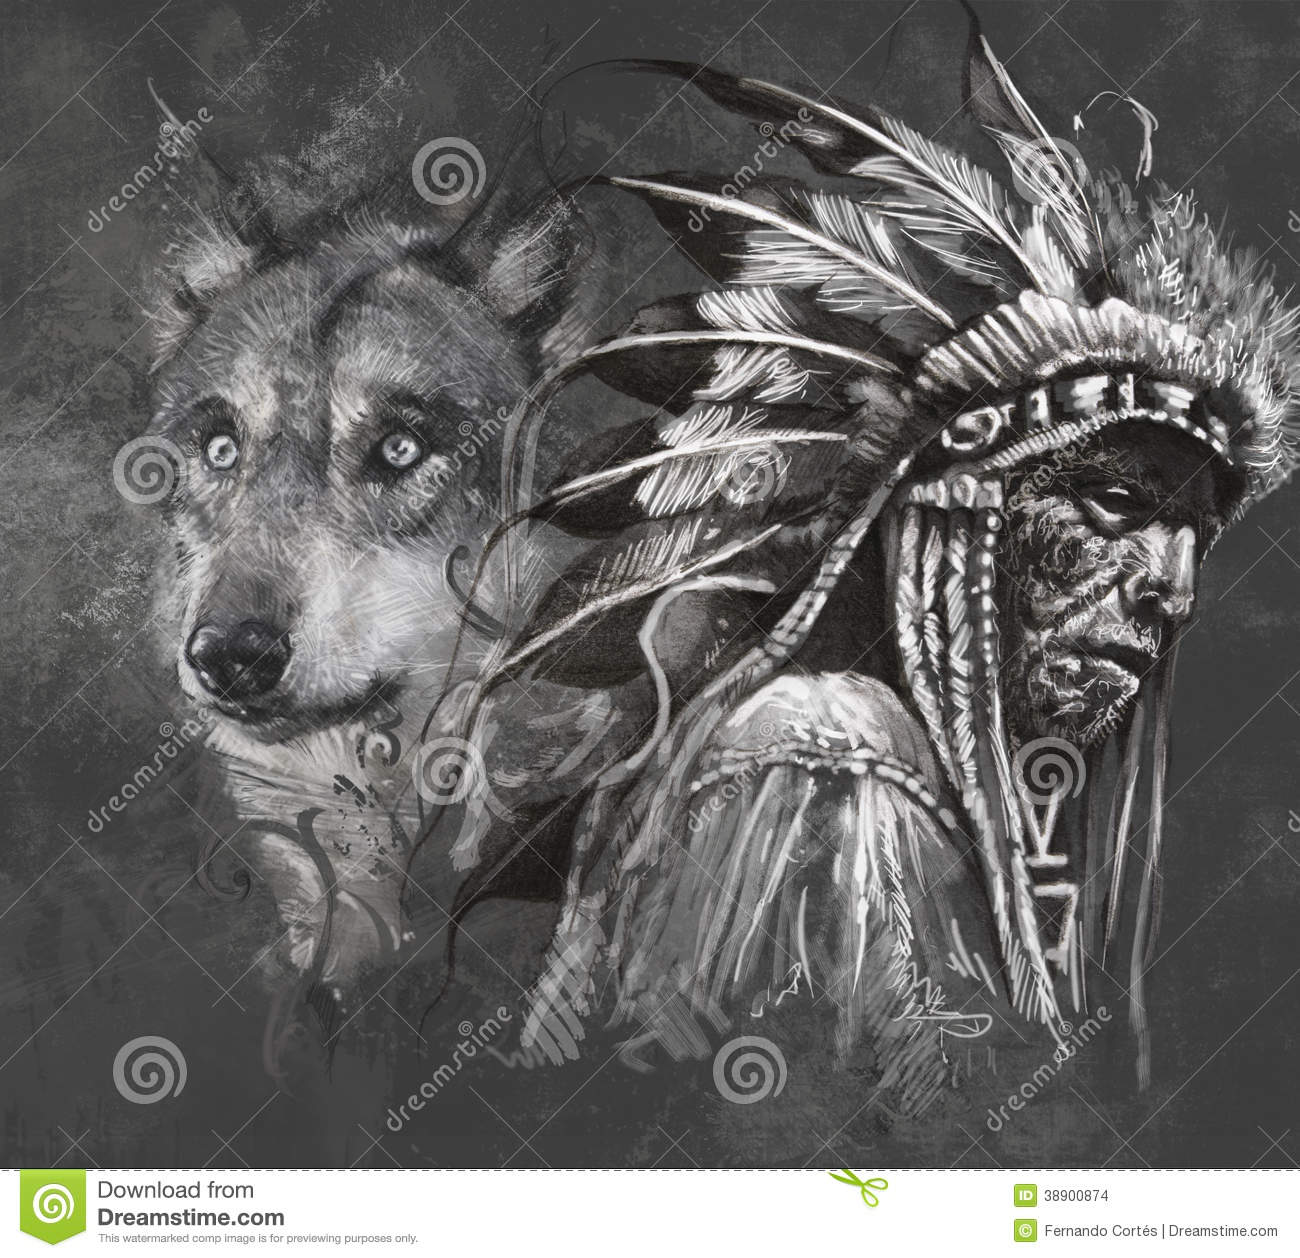Lobo: (98, 73, 627, 921)
